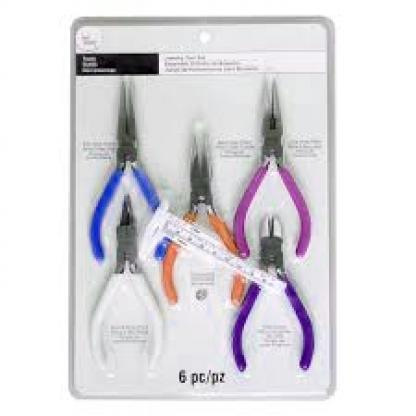Pliers: (159, 127, 244, 307), (88, 192, 168, 378), (90, 77, 170, 261), (232, 75, 312, 258), (229, 214, 315, 374)
